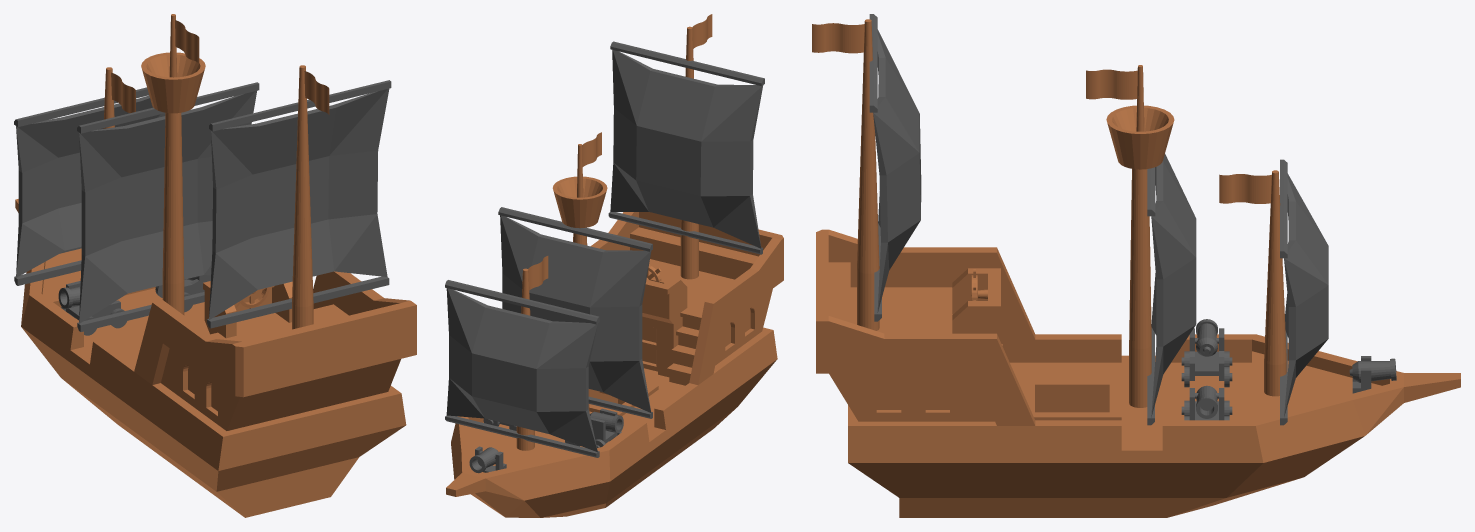
File: ship_dark.glb
The picture shows the model from 3 angles, left to right: view 1: azimuth 30°, elevation 25°; view 2: azimuth 150°, elevation 25°; view 3: azimuth 270°, elevation 25°; orthographic projection. The views are drawn at different scales.
Parts seen in each view (by area): view 1: ship_dark, sail_back, sail_middle, sail_front, cannon_left; view 2: ship_dark, sail_back, sail_front, sail_middle, cannon_left (×2), cannon_front; view 3: ship_dark, sail_back, sail_middle, sail_front, cannon_left (×2), cannon_front.
Part boxes in pixels (x1,y1,x2,y2): ship_dark: [15, 14, 416, 517]; sail_back: [207, 80, 391, 328]; sail_middle: [77, 82, 259, 331]; sail_front: [14, 87, 165, 285]; cannon_left: [66, 281, 120, 320]; ship_dark: [446, 14, 783, 517]; sail_back: [608, 41, 764, 254]; sail_front: [445, 280, 599, 457]; sail_middle: [498, 207, 652, 418]; cannon_left (×2): [590, 408, 623, 443]; cannon_front: [469, 447, 498, 473]; ship_dark: [812, 19, 1460, 517]; sail_back: [869, 14, 921, 321]; sail_middle: [1147, 154, 1196, 425]; sail_front: [1280, 159, 1328, 425]; cannon_left (×2): [1189, 319, 1224, 380]; cannon_front: [1349, 358, 1396, 382].
Bounding box in the file's own units: 28.5 × 65.46 × 80.98.
